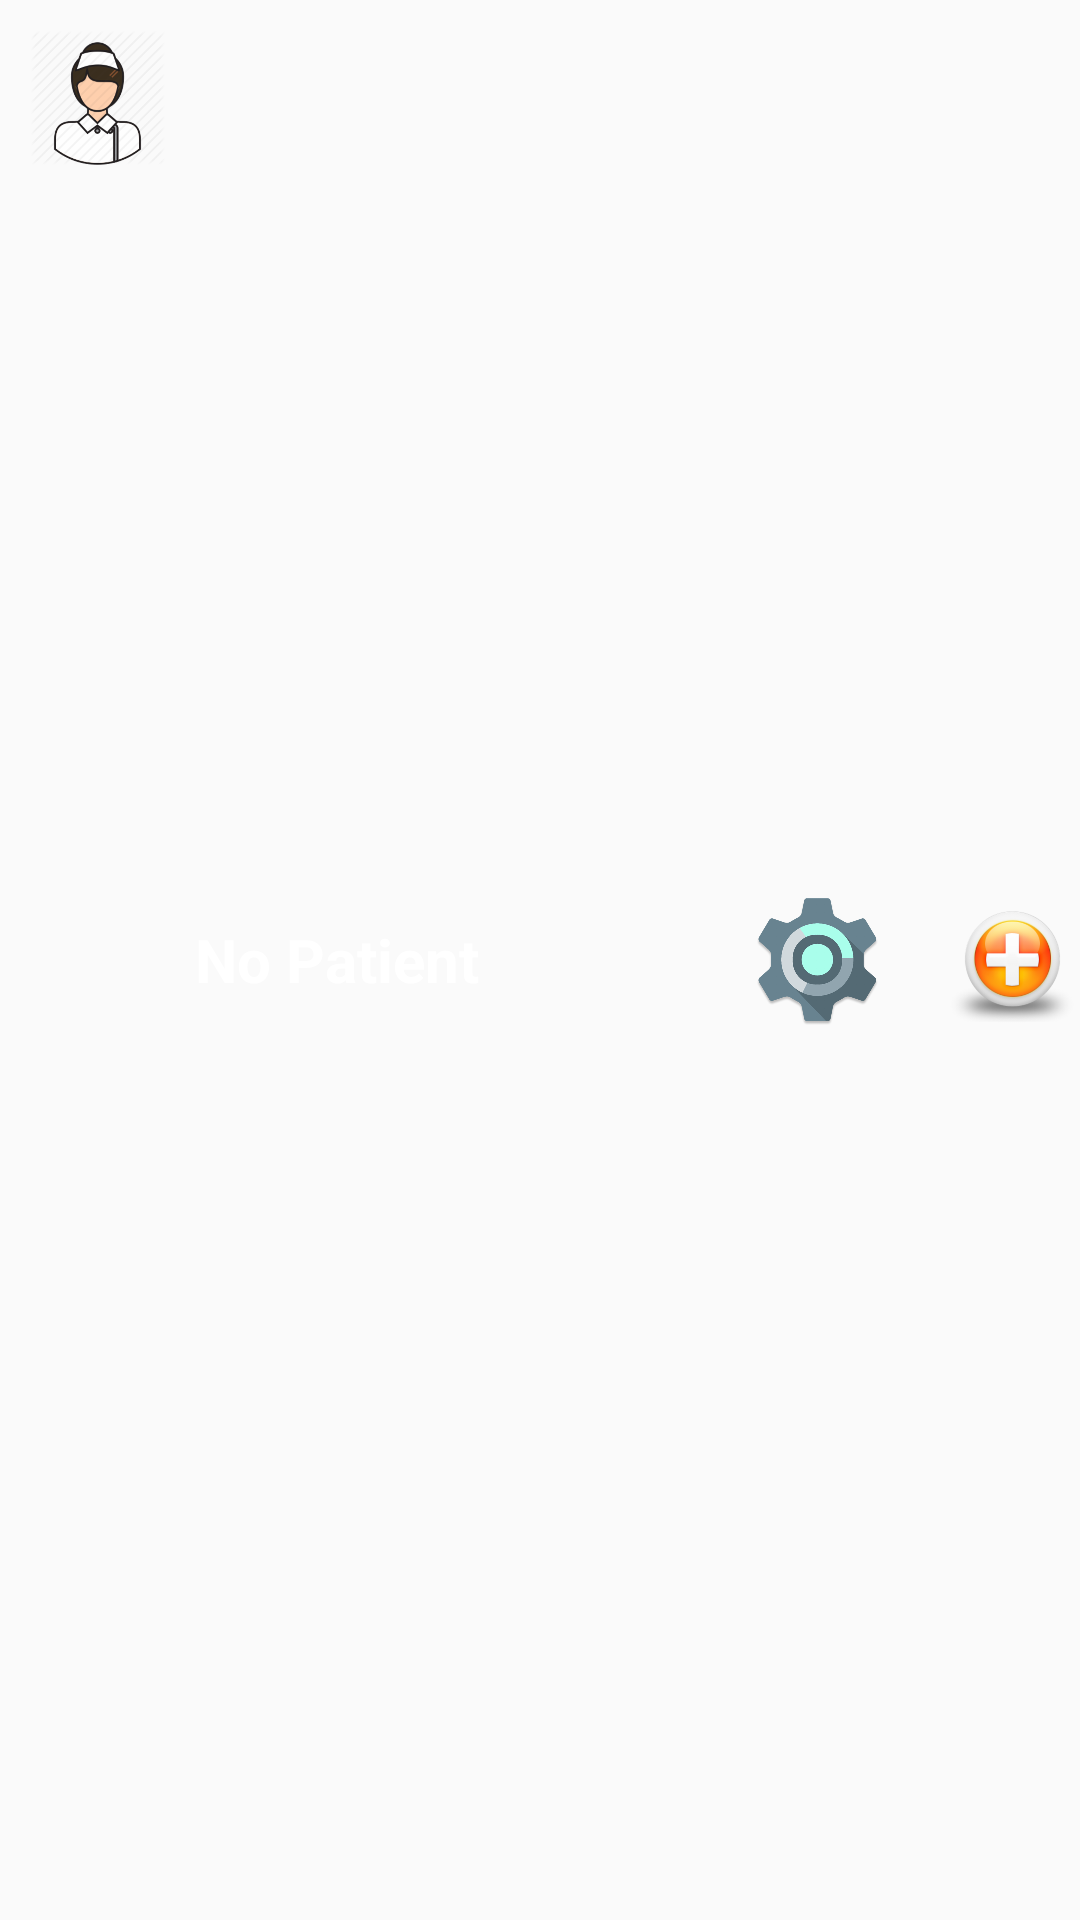

Icons on this 1080 × 1920 Android screen, each with the point to tap as point (x, y):
add: point (1012, 965)
nurse: point (97, 103)
settings: point (817, 961)
